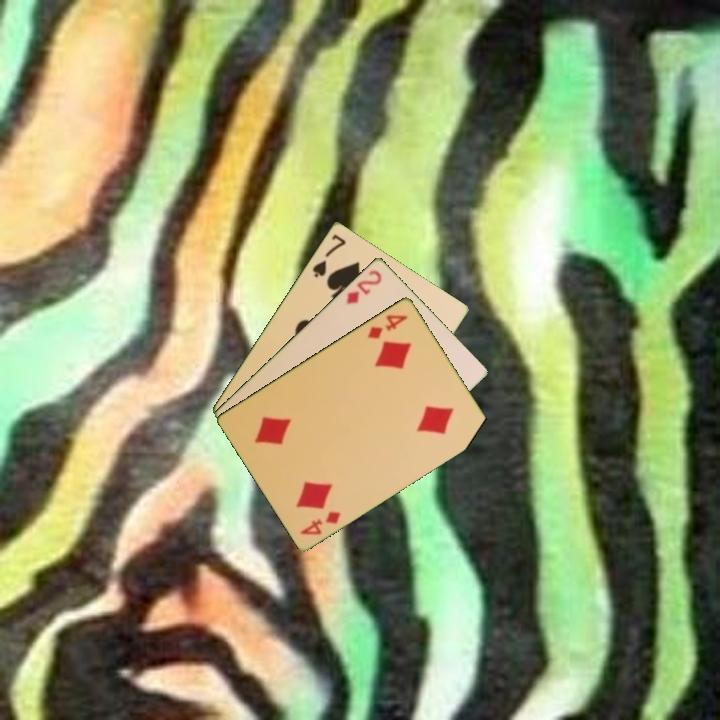2d: (343, 266, 385, 307)
4d: (297, 507, 344, 538), (364, 311, 410, 341)
7s: (308, 230, 349, 280)
